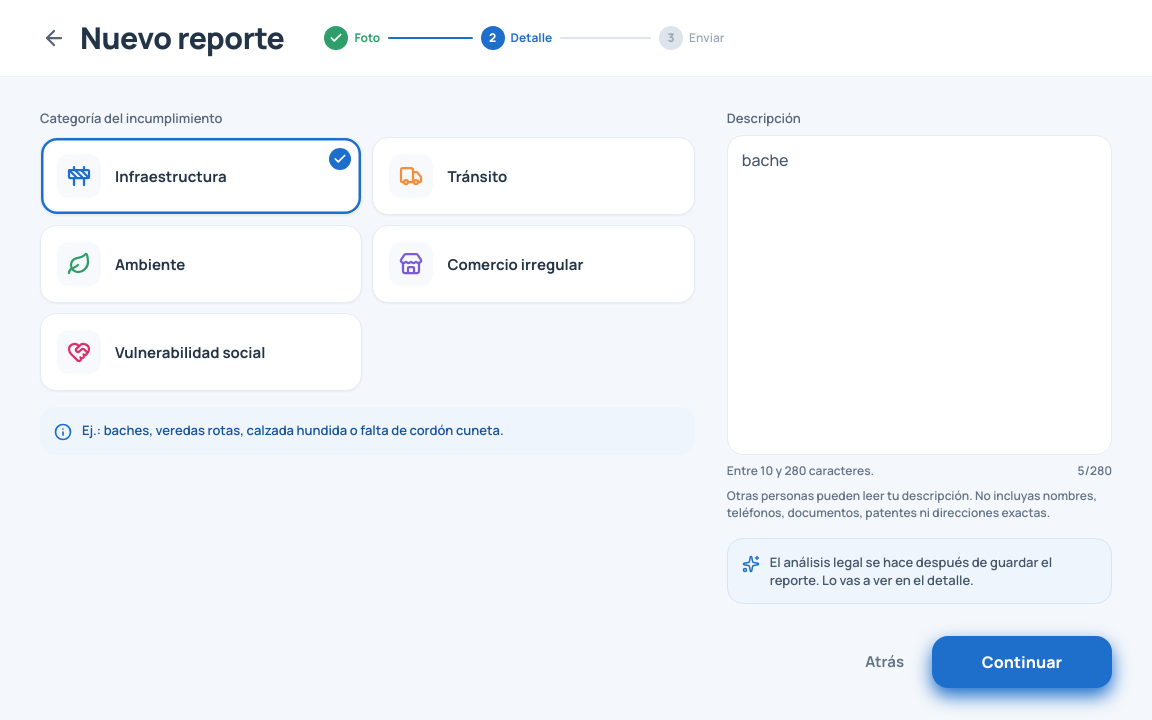
Test case: REP-2203: descripción del reporte en el Paso 2 › UT-DESC-11: con menos de 10 caracteres no deja continuar e indica el mínimo
This screenshot has width=1152, height=720.
Click the button "Continuar": (1022, 662) [932,636,1112,688]
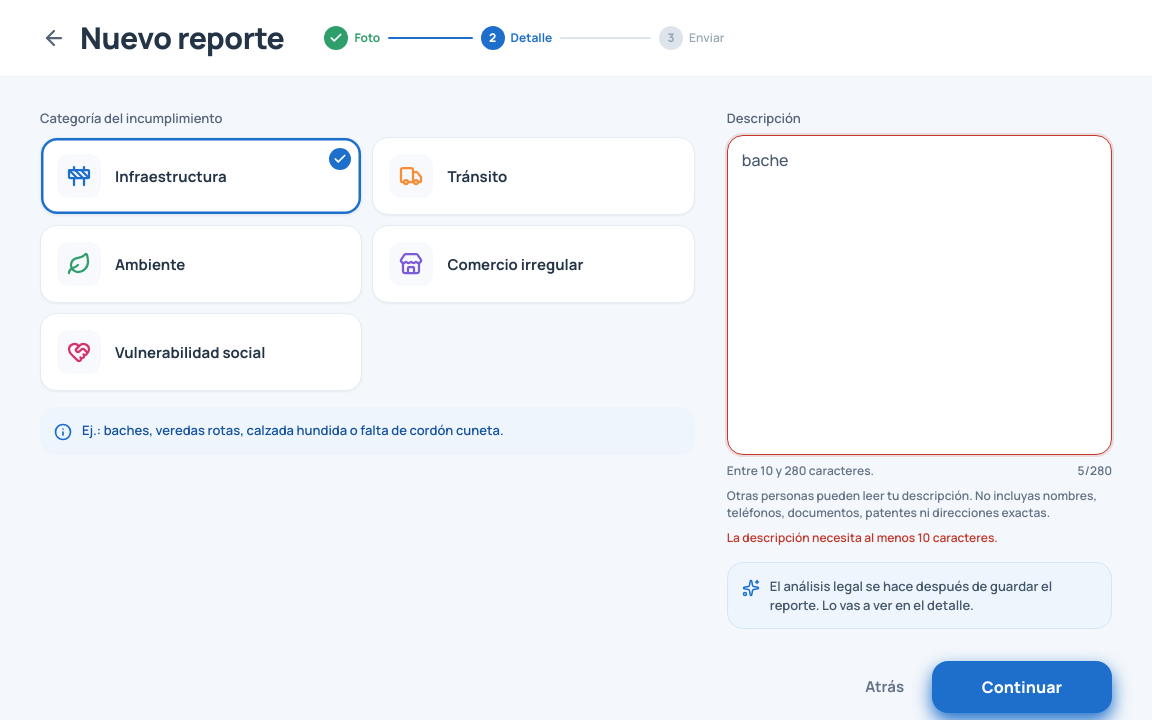
Check: the message shows "al menos 10", box [727,529,998,546]
